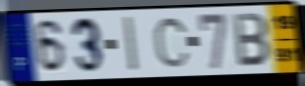3: (70, 15, 107, 77)
6: (34, 18, 67, 75)
7: (196, 11, 230, 71)
B: (232, 12, 273, 69)
C: (152, 16, 192, 70)
I: (122, 14, 141, 74)
